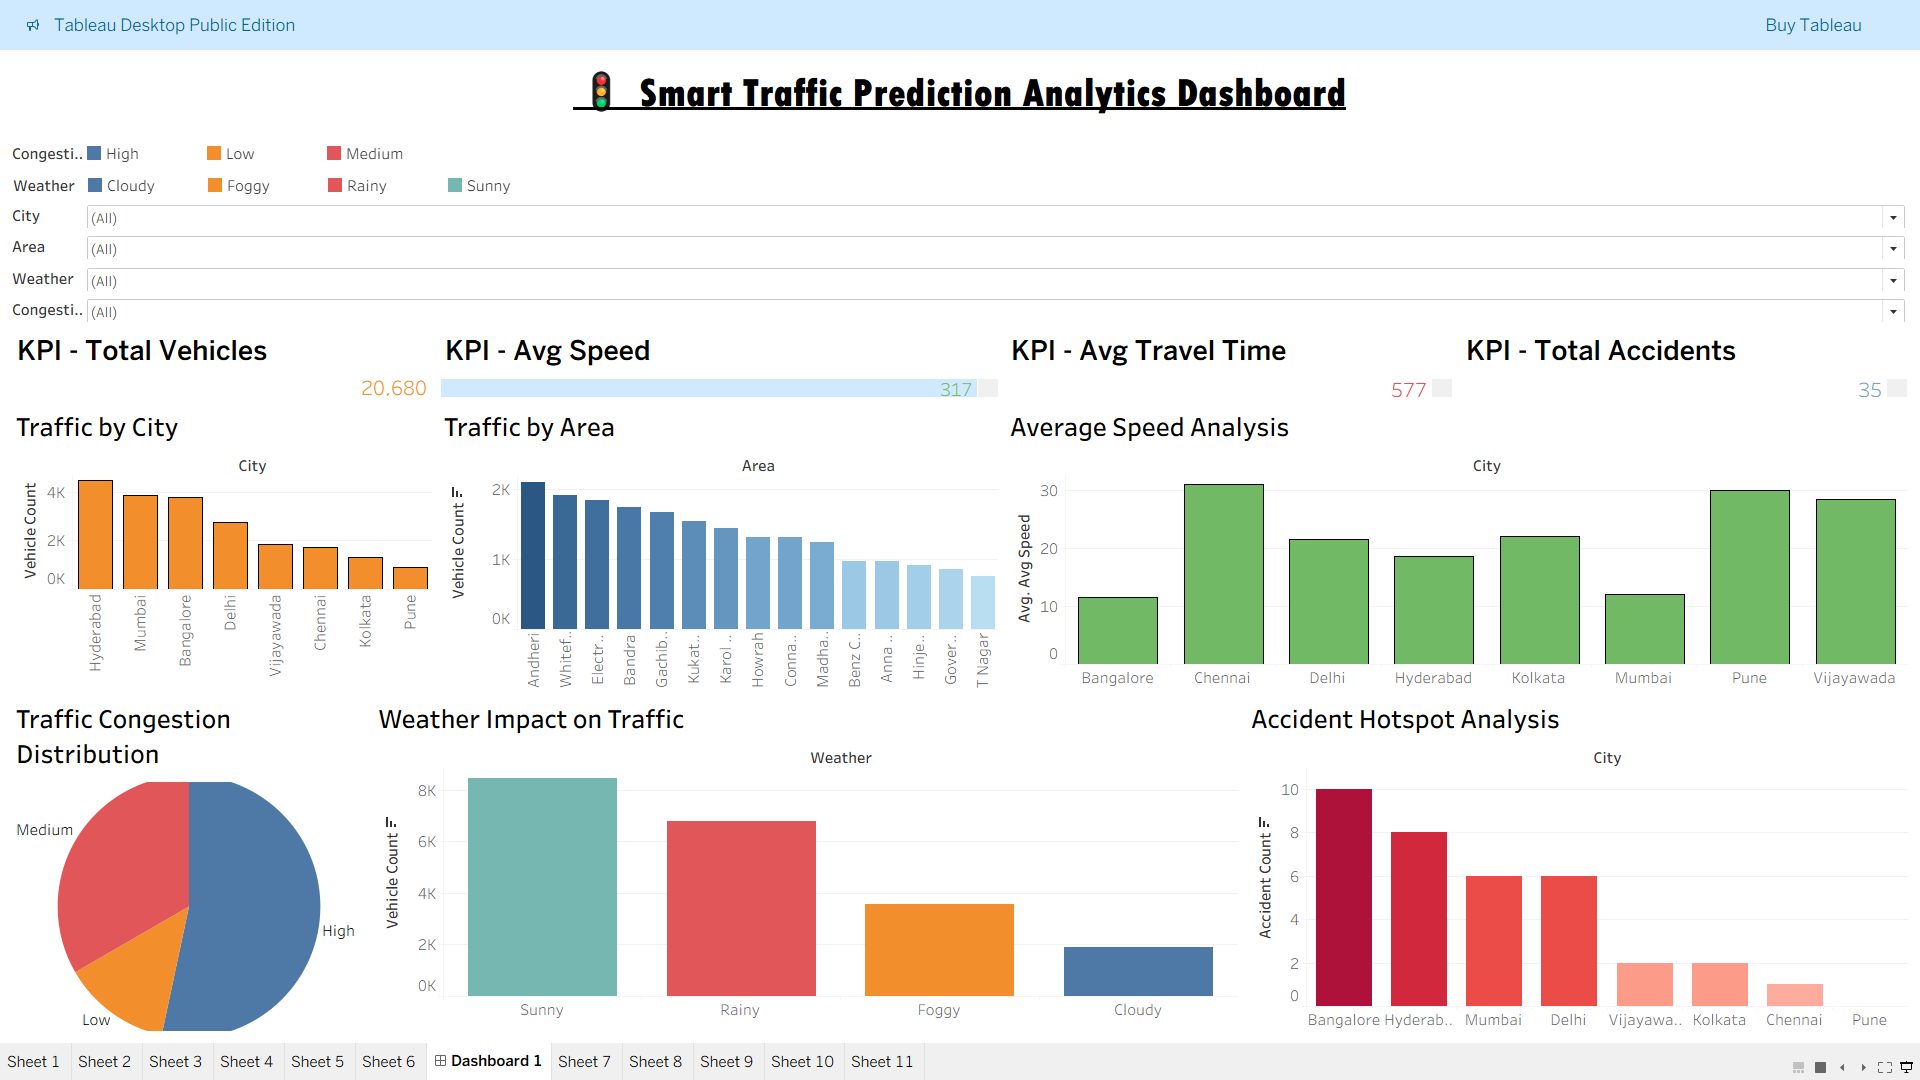

The dashboard page shown, as its layout file describes it:
{"tool":"tableau","page":{"name":"Dashboard 1","canvas":[1000,1000],"units":"permille","ordinal":0},"visuals":[{"type":"title","box":[4.7,10,990.5,101.1]},{"type":"legend","title":"Sheet 2","param":"[federated.0tr65yo130twsa1amykd20v46mqp].[none:congestion_level:nk]","box":[4.7,111.1,990.5,30.5]},{"type":"legend","title":"Sheet 5","param":"[federated.0tr65yo130twsa1amykd20v46mqp].[none:weather:nk]","box":[4.7,141.7,990.5,30.5]},{"type":"filter","title":"Sheet 3","param":"[federated.0tr65yo130twsa1amykd20v46mqp].[none:city:nk]","box":[4.7,172.2,990.5,30.5]},{"type":"filter","title":"Sheet 3","param":"[federated.0tr65yo130twsa1amykd20v46mqp].[none:area:nk]","box":[4.7,202.7,990.5,30.5]},{"type":"filter","title":"Sheet 5","param":"[federated.0tr65yo130twsa1amykd20v46mqp].[none:weather:nk]","box":[4.7,233.3,990.5,30.5]},{"type":"filter","title":"Sheet 2","param":"[federated.0tr65yo130twsa1amykd20v46mqp].[none:congestion_level:nk]","box":[4.7,263.8,990.5,30.6]},{"type":"worksheet","title":"Sheet 8","mark":"Automatic","box":[4.7,294.4,222.5,73.6]},{"type":"worksheet","title":"Sheet 9","mark":"Automatic","box":[227.2,294.4,294.9,74.1]},{"type":"worksheet","title":"Sheet 11","mark":"Automatic","box":[522.1,294.4,236.5,74.1]},{"type":"worksheet","title":"Sheet 10","mark":"Automatic","box":[758.5,294.4,236.7,74.1]},{"type":"worksheet","title":"Sheet 3","mark":"Bar","rows":["vehicle_count"],"cols":["city"],"box":[4.7,368,222.5,286.6]},{"type":"worksheet","title":"Sheet 7","mark":"Automatic","rows":["vehicle_count"],"cols":["area"],"box":[227.2,368.5,294.9,286.1]},{"type":"worksheet","title":"Sheet 4","mark":"Bar","rows":["avg_speed"],"cols":["city"],"box":[522.1,368.5,473.2,286.1]},{"type":"worksheet","title":"Sheet 2","mark":"Pie","box":[4.7,654.6,188.4,335.4]},{"type":"worksheet","title":"Sheet 5","mark":"Bar","rows":["vehicle_count"],"cols":["weather"],"box":[193.2,654.6,453.9,335.4]},{"type":"worksheet","title":"Sheet 6","mark":"Bar","rows":["accident_count"],"cols":["city"],"box":[647,654.6,348.2,335.4]}]}

Visuals, with their boxes on the dashboard's canvas, which has no fixed pixel size, in thousandths of its width and height (x1, y1, x2, y2). These are canvas units, not pixel positions in the 1920x1080 screenshot, which may show the page scaled, cropped or inside an application window:
title: [5,10,995,111]
"Sheet 2" legend: [5,111,995,142]
"Sheet 5" legend: [5,142,995,172]
"Sheet 3" filter: [5,172,995,203]
"Sheet 3" filter: [5,203,995,233]
"Sheet 5" filter: [5,233,995,264]
"Sheet 2" filter: [5,264,995,294]
"Sheet 8" worksheet: [5,294,227,368]
"Sheet 9" worksheet: [227,294,522,368]
"Sheet 11" worksheet: [522,294,759,368]
"Sheet 10" worksheet: [758,294,995,368]
"Sheet 3" worksheet (Bar marks): [5,368,227,655]
"Sheet 7" worksheet: [227,368,522,655]
"Sheet 4" worksheet (Bar marks): [522,368,995,655]
"Sheet 2" worksheet (Pie marks): [5,655,193,990]
"Sheet 5" worksheet (Bar marks): [193,655,647,990]
"Sheet 6" worksheet (Bar marks): [647,655,995,990]
